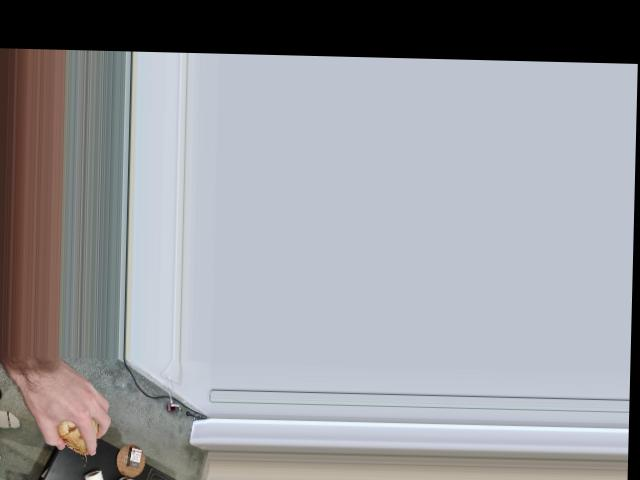onion: (44, 394, 98, 457)
